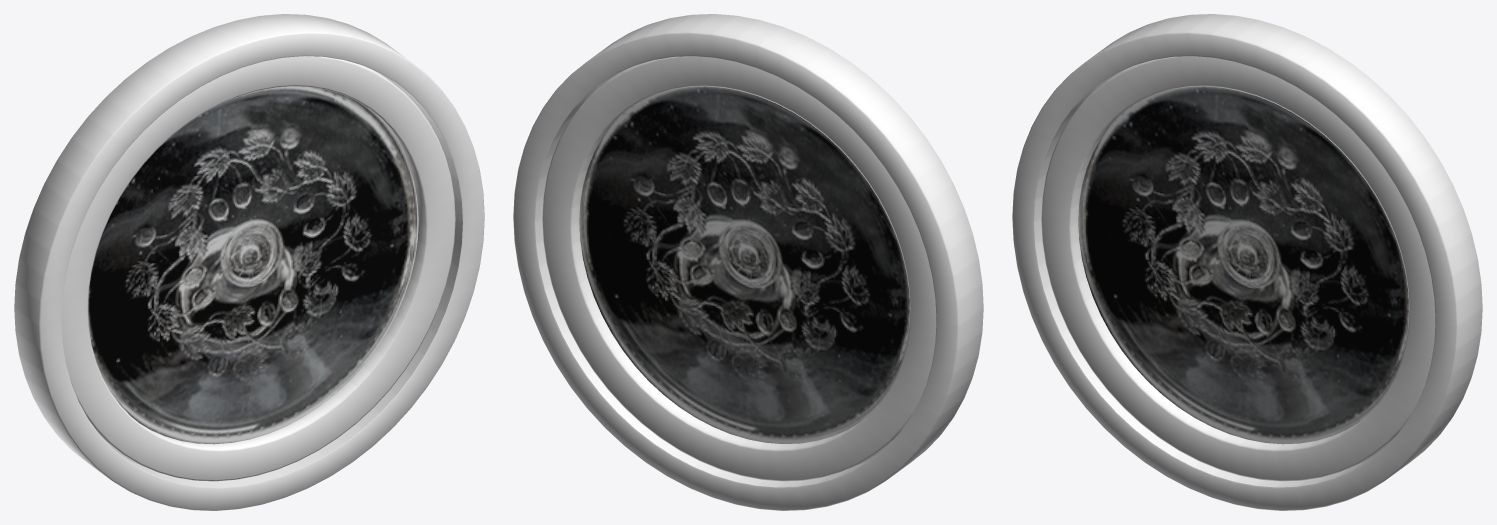
File: RoundWindowWhite03.fbx
3 renders of one model, left to right at view 1: azimuth 30°, elevation 25°; view 2: azimuth 150°, elevation 25°; view 3: azimuth 330°, elevation 25°, orthographic.
Parts seen in each view (by area): view 1: default; view 2: default; view 3: default.
Boxes of the visible parts, x1,y1,x2,y2 form: default: [14, 14, 484, 510]; default: [513, 14, 983, 510]; default: [1012, 14, 1482, 510].
Bounding box in the file's own units: 121 × 121 × 12.24.
